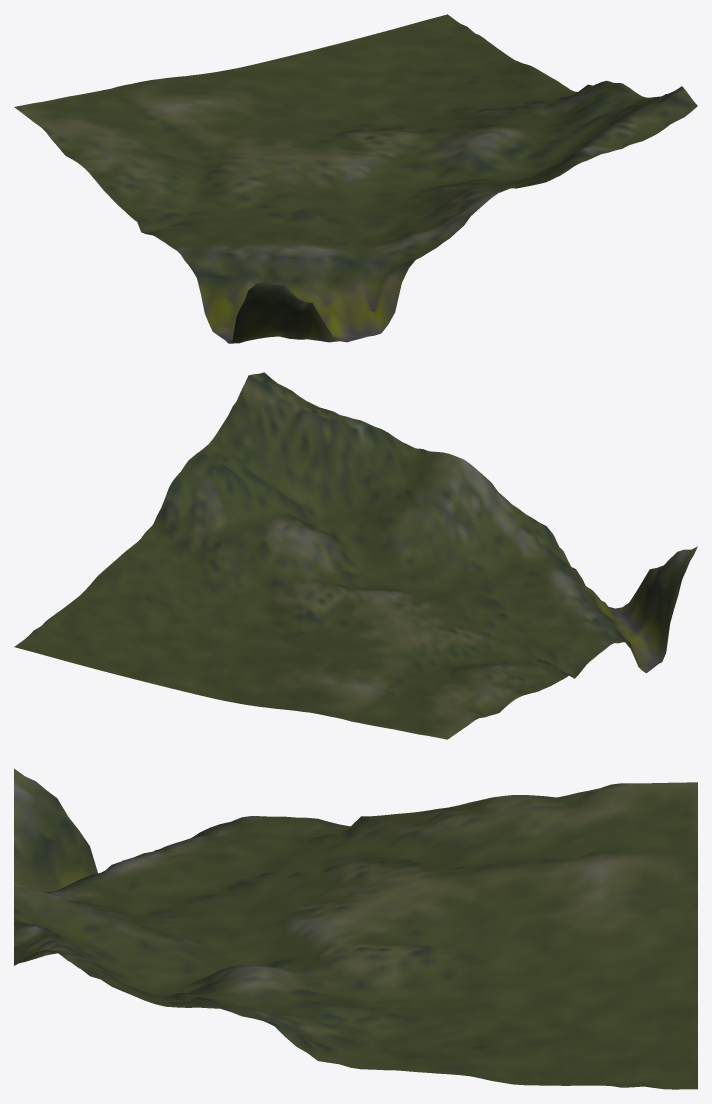
Rendered from TownLandscape_Mesh_x0125_1_0.fbx.
3 renders of one model, top to bottom at view 1: azimuth 30°, elevation 25°; view 2: azimuth 150°, elevation 25°; view 3: azimuth 270°, elevation 25°, orthographic. The views are drawn at different scales.
Parts seen in each view (by area): view 1: Terrain; view 2: Terrain; view 3: Terrain.
Part boxes in pixels (x1=…): Terrain: x1=14, y1=14, x2=697, y2=343; Terrain: x1=14, y1=372, x2=697, y2=739; Terrain: x1=14, y1=768, x2=697, y2=1089.
Size of the model in its own units: 1024 by 375 by 1024.
